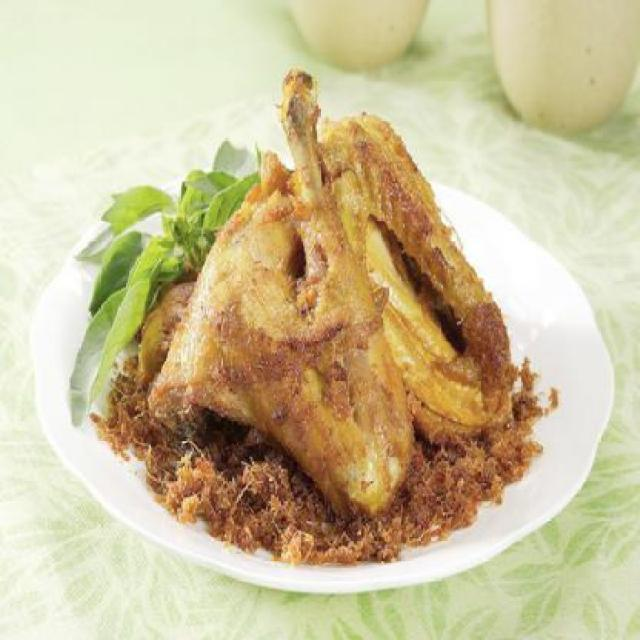Frango: (206, 123, 448, 474)
